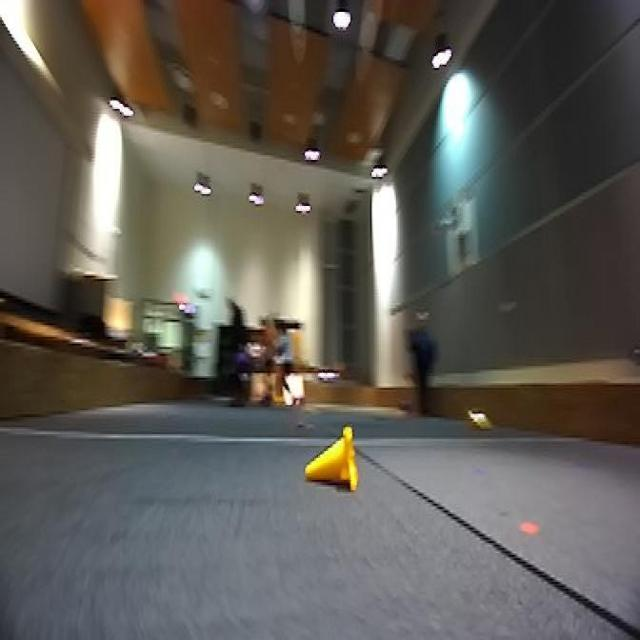frc_cone: (301, 422, 359, 492)
